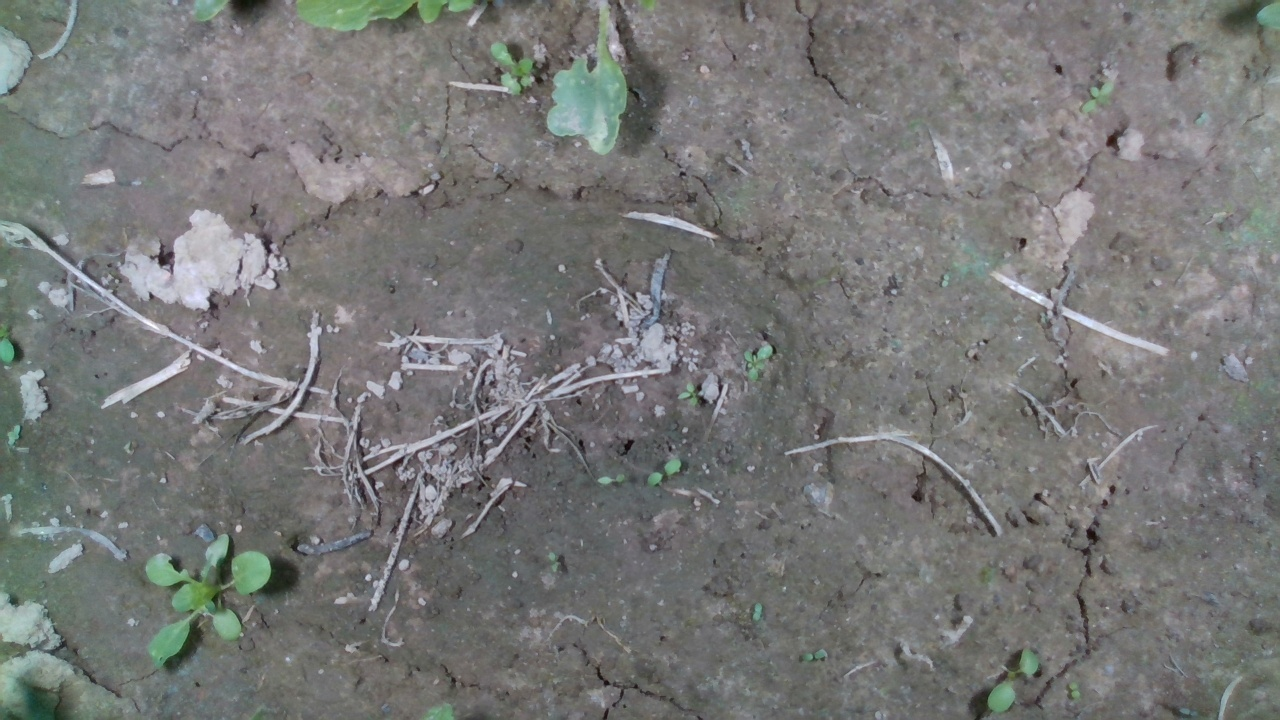weed: (985, 644, 1038, 715), (1077, 79, 1114, 114), (645, 457, 682, 486), (741, 349, 767, 383), (675, 380, 704, 404), (595, 471, 628, 486), (1067, 681, 1081, 702)
